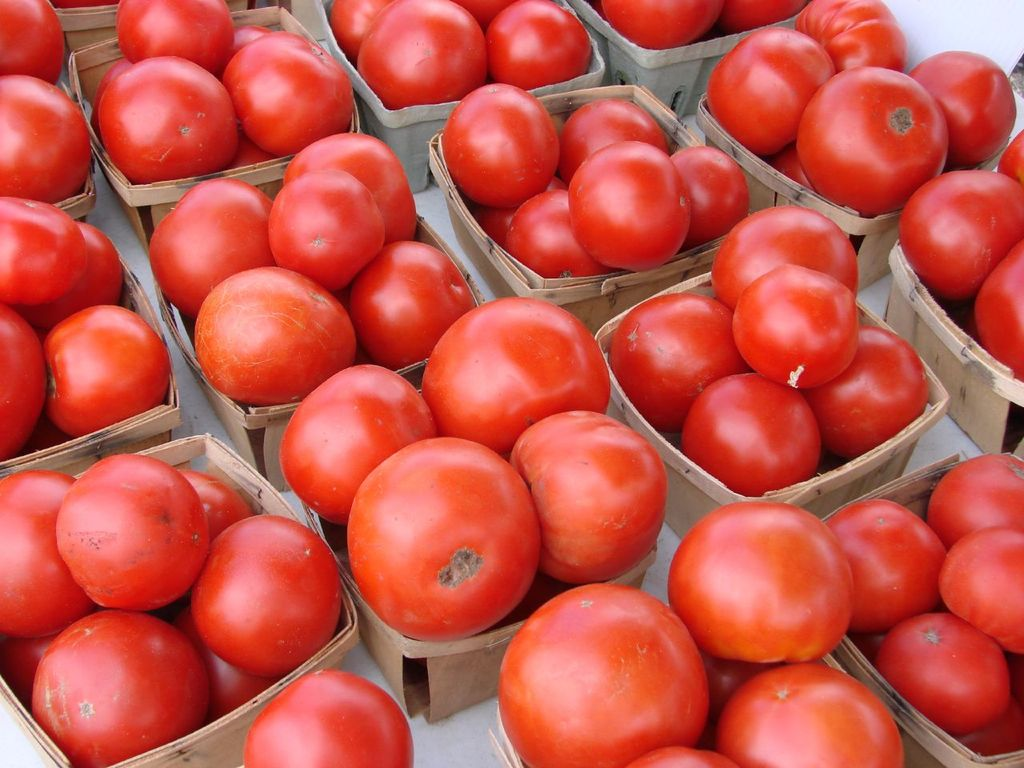Tomato: (0, 0, 1023, 767), (438, 80, 562, 203)
